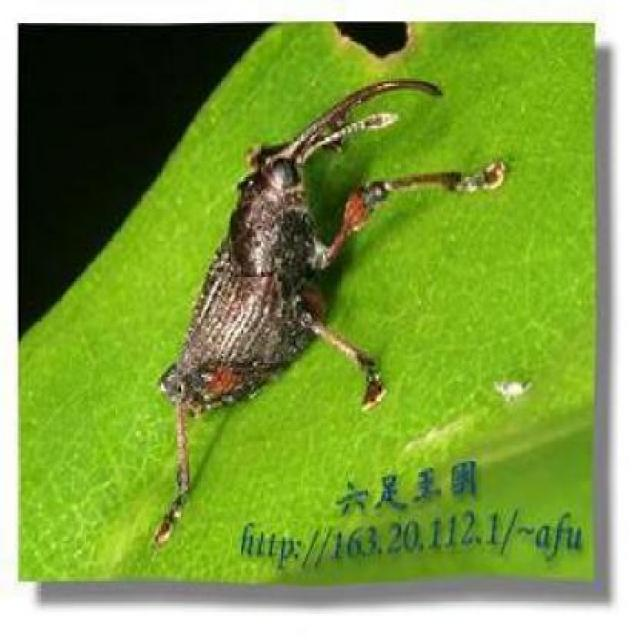rice-bug: (156, 100, 402, 445)
